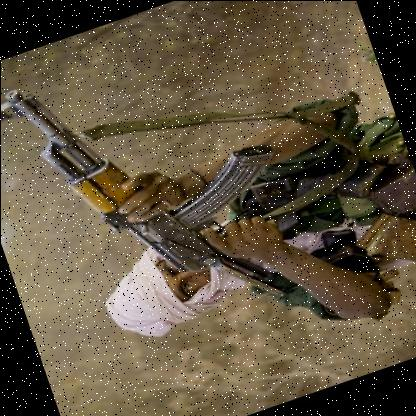rifle: (0, 13, 326, 368)
